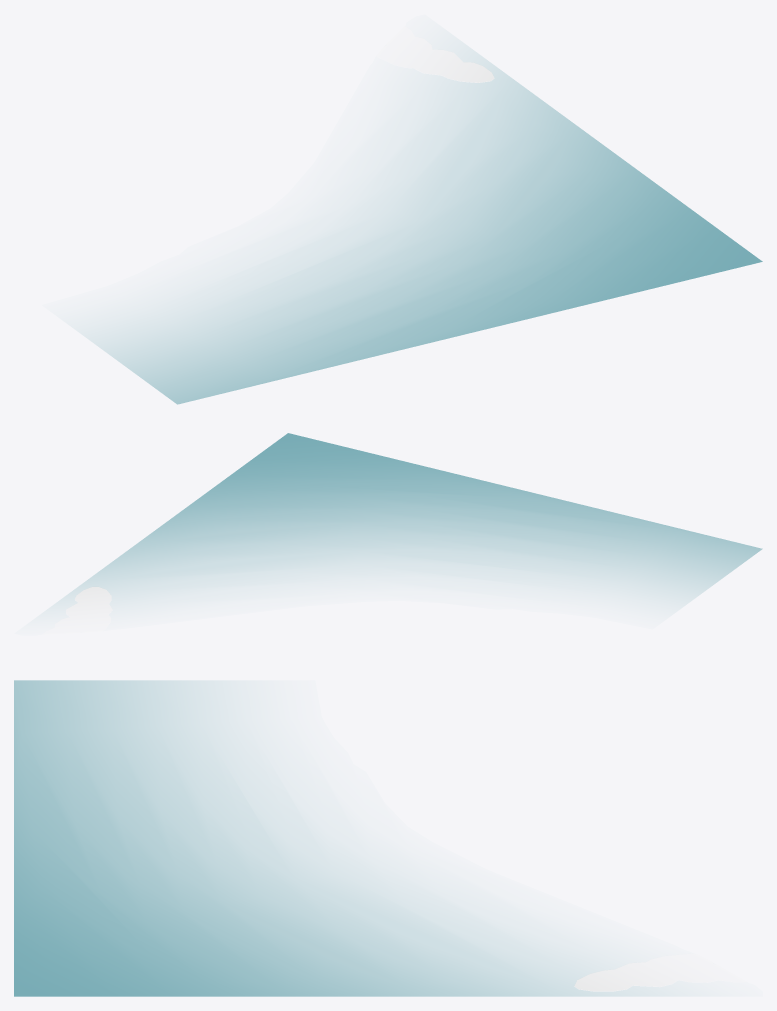
3 renders of one model, top to bottom at view 1: azimuth 30°, elevation 25°; view 2: azimuth 150°, elevation 25°; view 3: azimuth 270°, elevation 25°, orthographic. The views are drawn at different scales.
Visible parts, largest first — view 1: city; view 2: city; view 3: city.
Boxes of the visible parts, x1,y1,x2,y2 form: city: (82,47,762,404); city: (51,433,762,608); city: (14,680,664,996).
Size of the model in its own units: 500 by 0.18 by 500.
